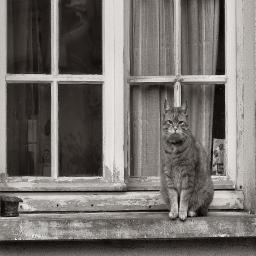catnose: (173, 127, 178, 132)
